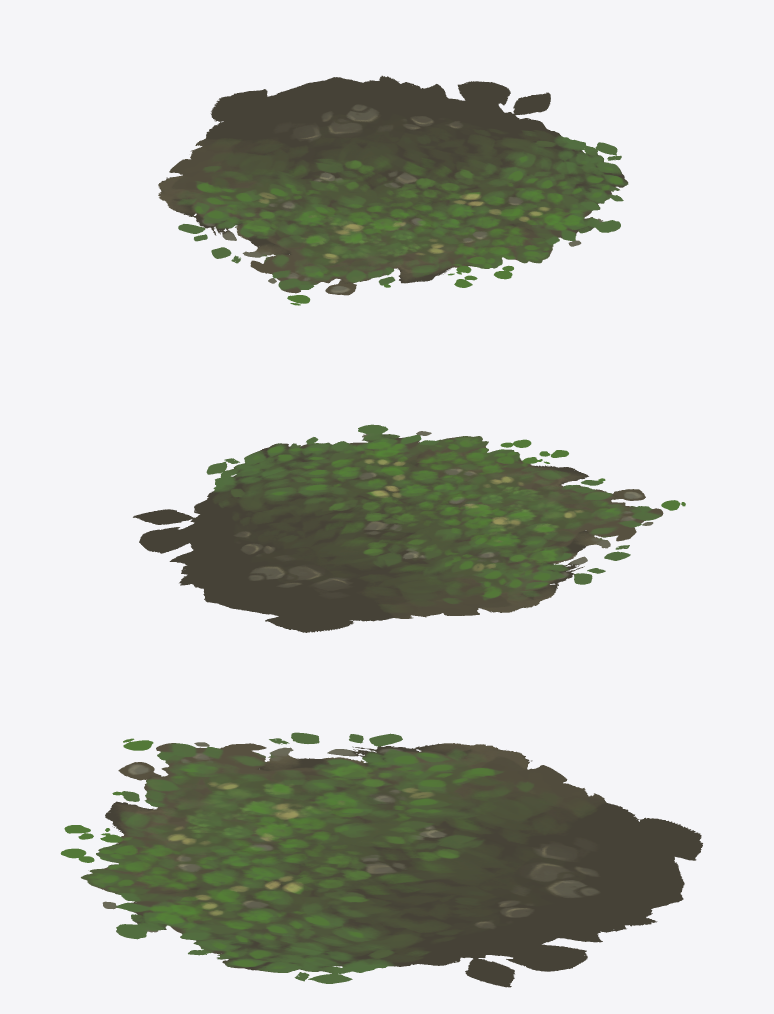
File: moss_02.fbx
3 renders of one model, top to bottom at view 1: azimuth 30°, elevation 25°; view 2: azimuth 150°, elevation 25°; view 3: azimuth 270°, elevation 25°, orthographic. The views are drawn at different scales.
Visible parts, largest first — view 1: moss2; view 2: moss2; view 3: moss2.
Boxes of the visible parts, x1,y1,x2,y2 form: moss2: (158,75,628,305); moss2: (133,424,685,632); moss2: (60,732,702,987).
Bounding box in the file's own units: 2.49 × 0 × 2.83.
